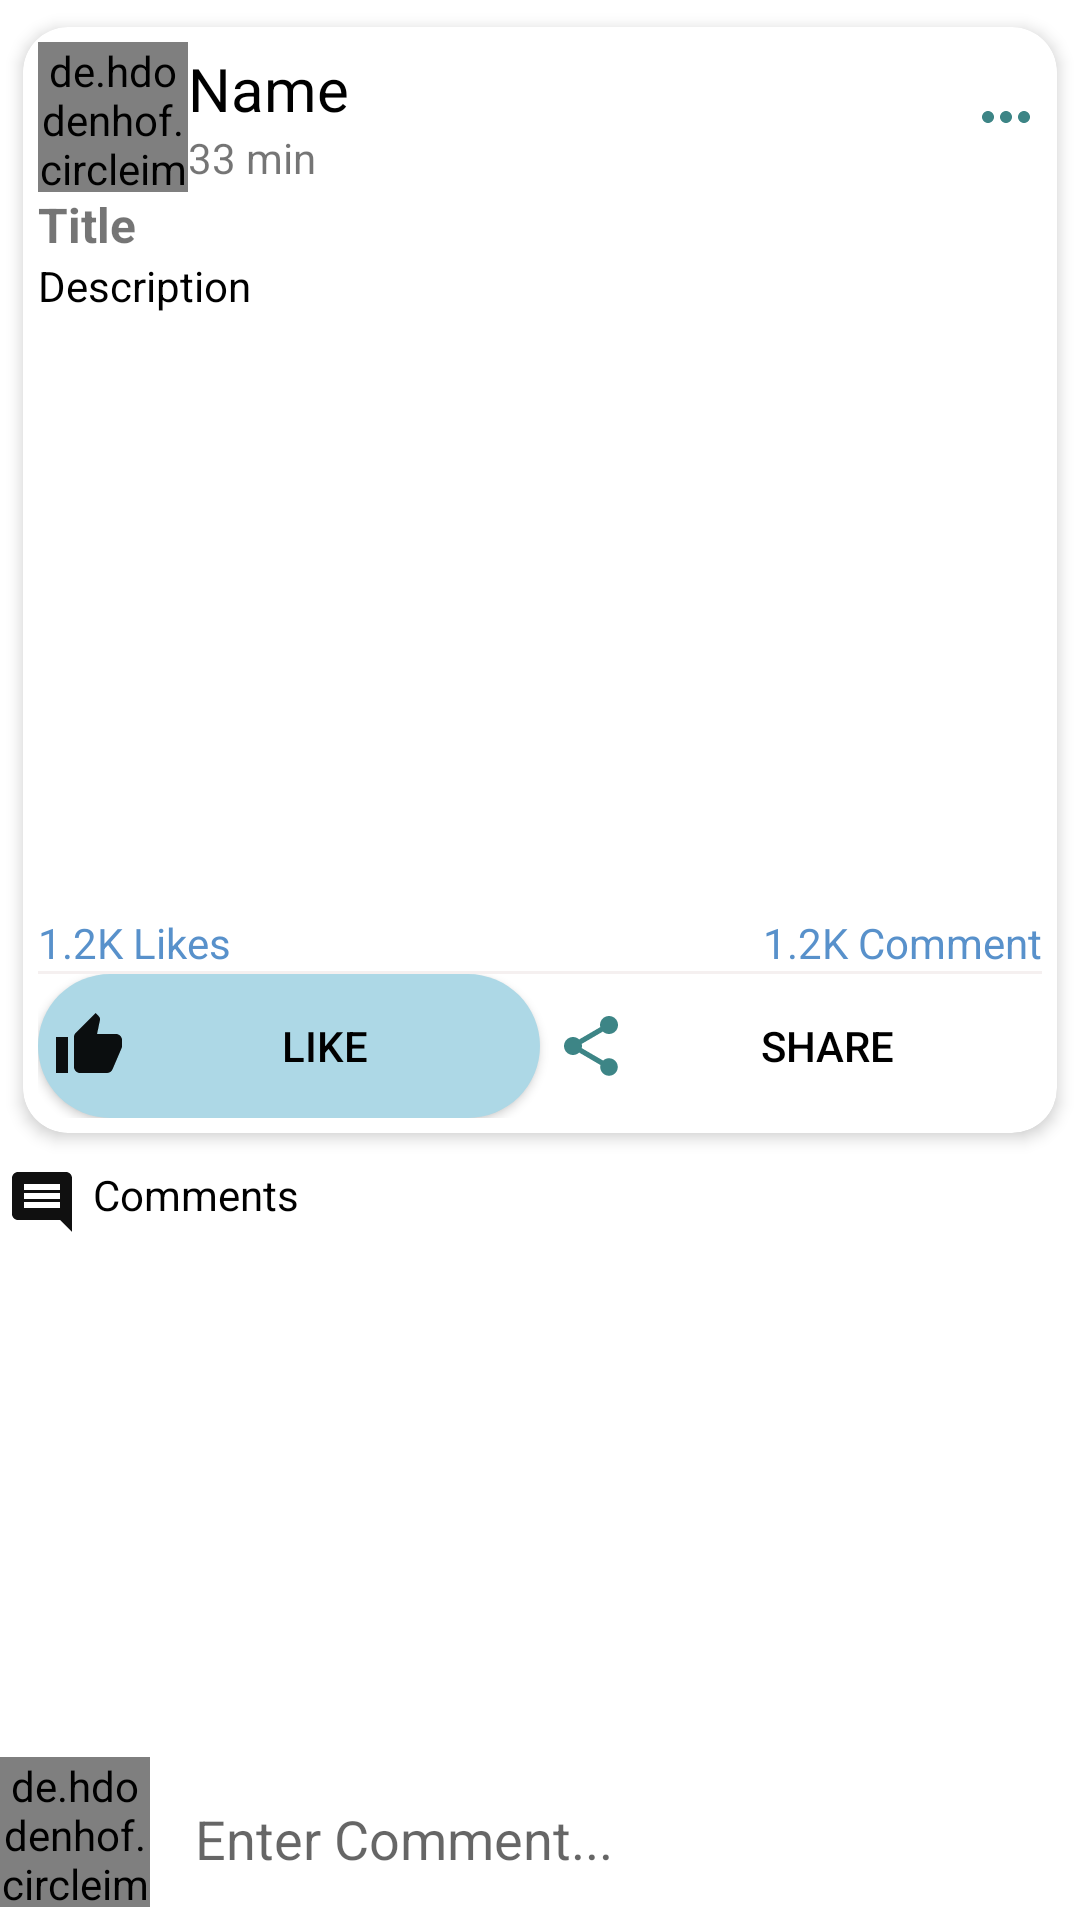

Named icons in this screenshot (1080 × 1920) and their bounding boxes, (x1, y1, x2, y2):
more horiz: (982, 111, 1030, 123)
